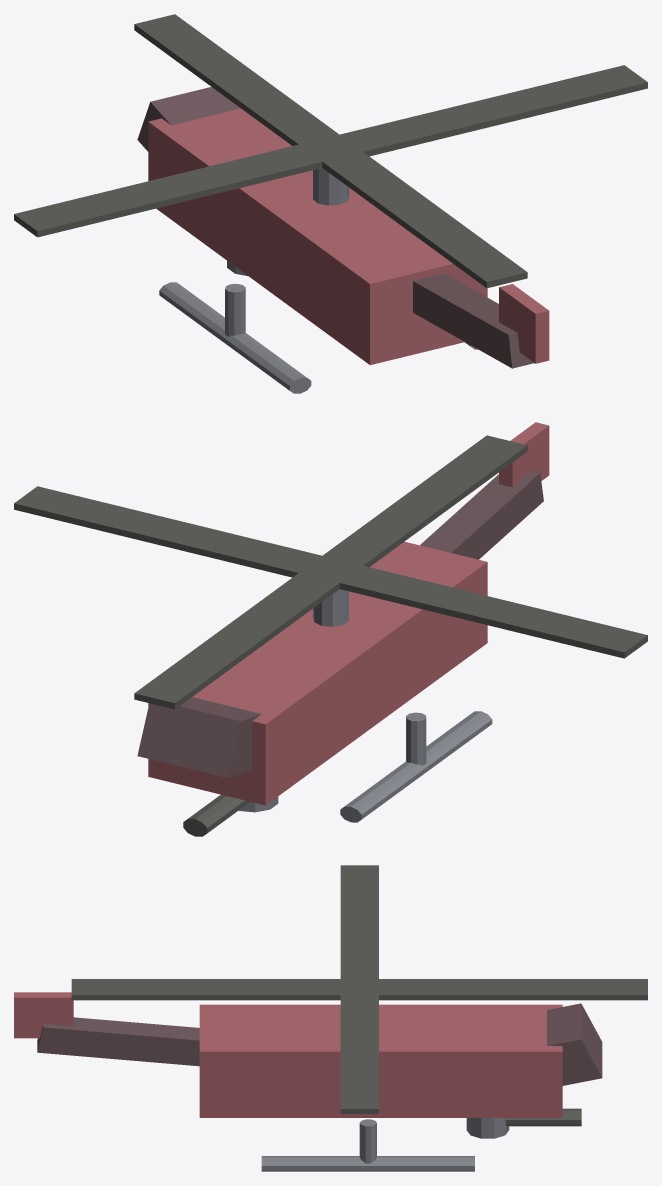
Rendered from so_harpy.glb.
3 views of the same model, one above another, from view 1: azimuth 30°, elevation 25°; view 2: azimuth 150°, elevation 25°; view 3: azimuth 270°, elevation 25° (orthographic). The views are drawn at different scales.
Parts seen in each view (by area): view 1: hull; view 2: hull; view 3: hull.
Part boxes in pixels (x1=…): hull: x1=14, y1=14, x2=647, y2=393; hull: x1=14, y1=422, x2=647, y2=836; hull: x1=14, y1=865, x2=647, y2=1171.
Size of the model in its own units: 0.9091 by 0.2554 by 1.
